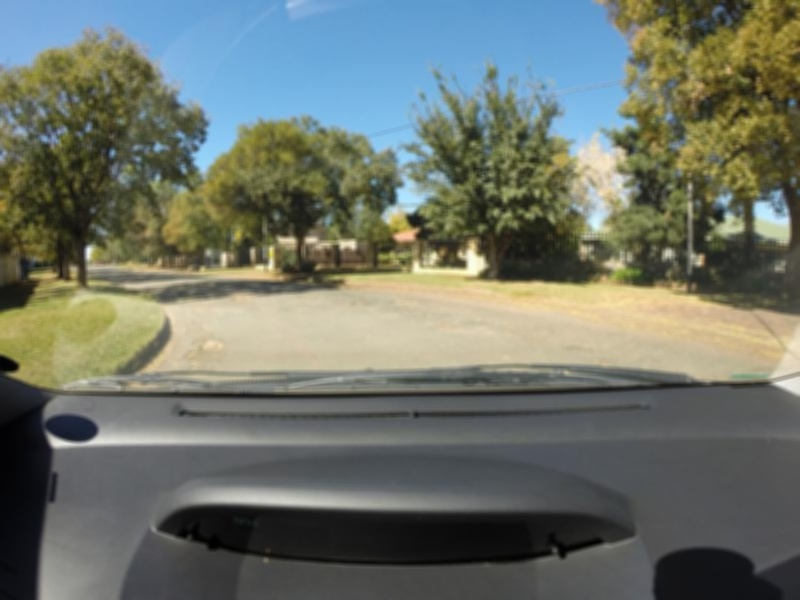pothole: (184, 334, 227, 365), (430, 323, 461, 333), (593, 352, 613, 365), (351, 297, 372, 307), (390, 295, 416, 302)
